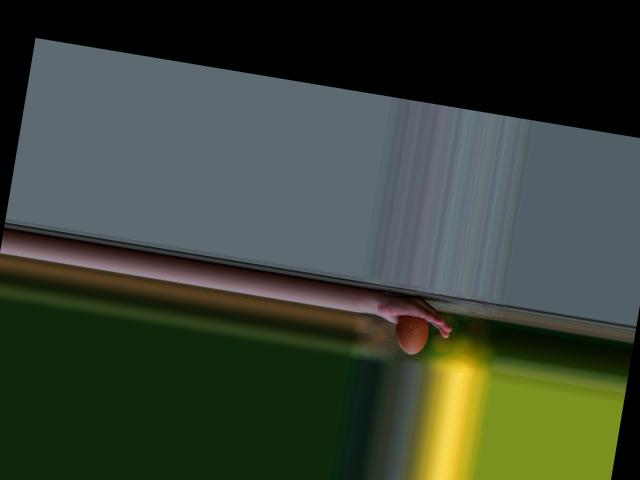egg: (390, 313, 430, 356)
